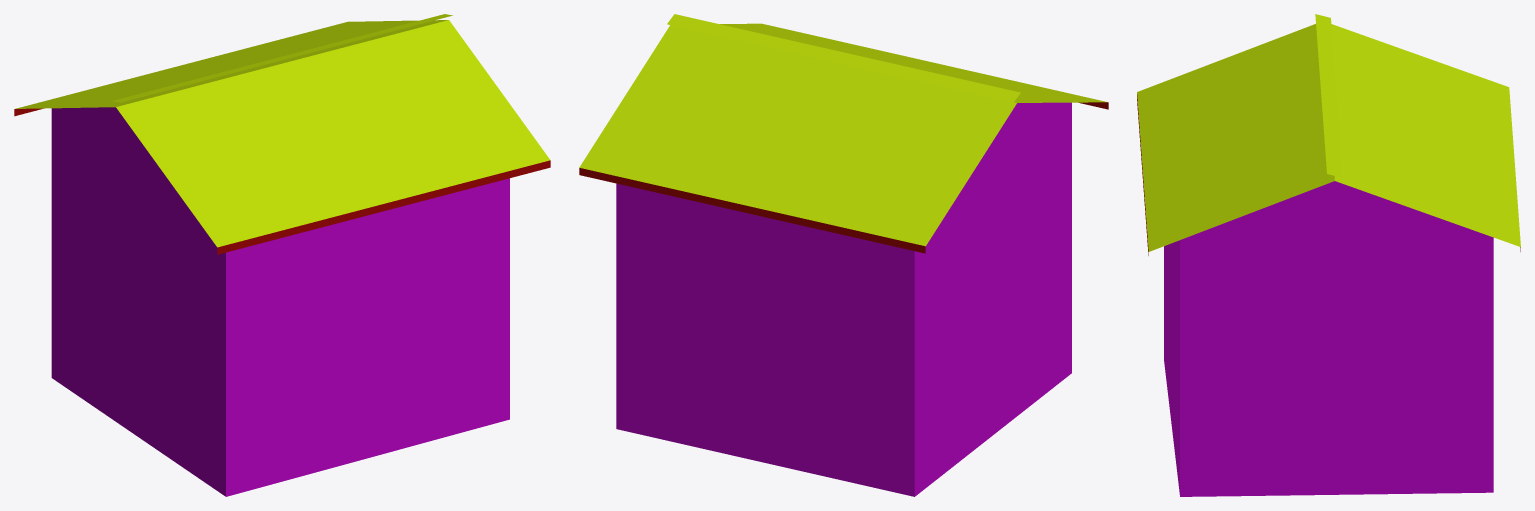
Rendered from rmc_210.glb.
3 renders of one model, left to right at view 1: azimuth 30°, elevation 25°; view 2: azimuth 150°, elevation 25°; view 3: azimuth 270°, elevation 25°, orthographic. The views are drawn at different scales.
Parts seen in each view (by area): view 1: rmc_210; view 2: rmc_210; view 3: rmc_210.
Part boxes in pixels (x1,y1,x2,y2): rmc_210: (14, 14, 550, 496); rmc_210: (579, 14, 1108, 496); rmc_210: (1137, 14, 1520, 496).
Size of the model in its own units: 5.98 by 5.62 by 5.89.
